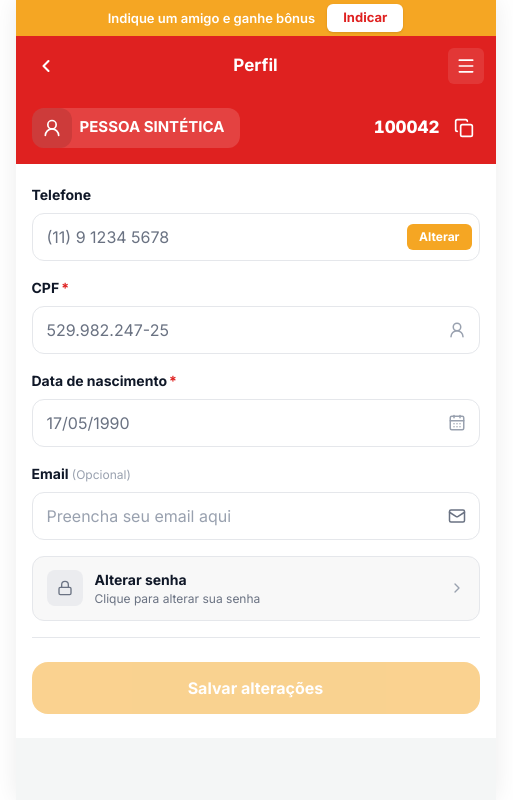
Perfil: telefone › "Alterar" libera a edição com máscara; "Cancelar" volta ao valor salvo
Click the button "Alterar".
click(439, 236)  # box [407, 224, 472, 250]
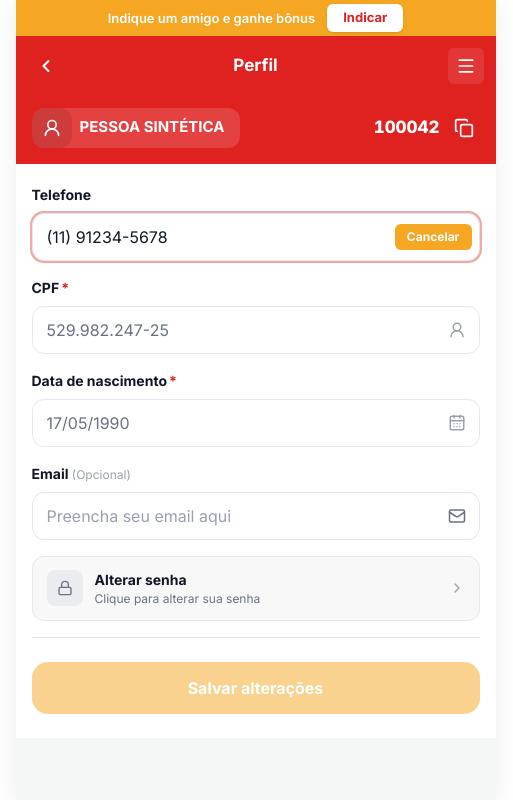
Check: the field labelled "Telefone" holds "(11) 91234-5678"
Replace the text in the field labelled "Telefone" with "21987654321" at (256, 236), box [32, 212, 480, 260]
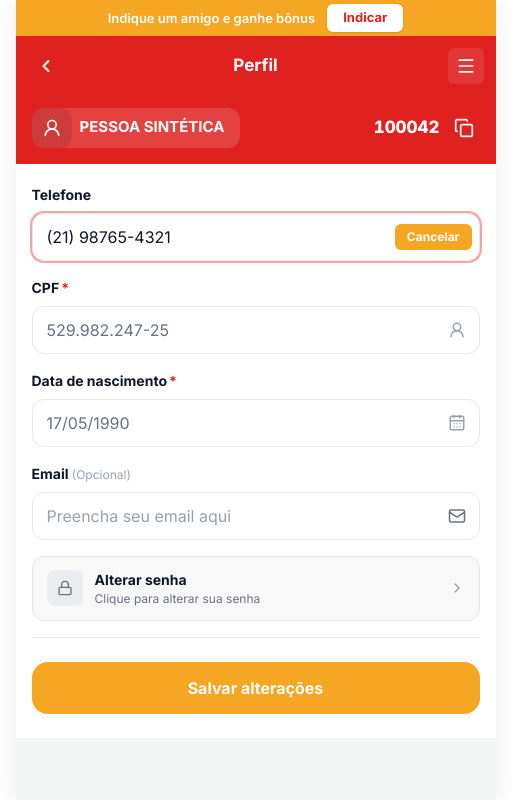
Check: the button "Salvar alterações" is enabled, box [32, 662, 480, 714]
Check: the field labelled "Telefone" holds "(21) 98765-4321", box [32, 212, 480, 260]
Click the button "Cancelar".
click(433, 236)  # box [395, 224, 472, 250]
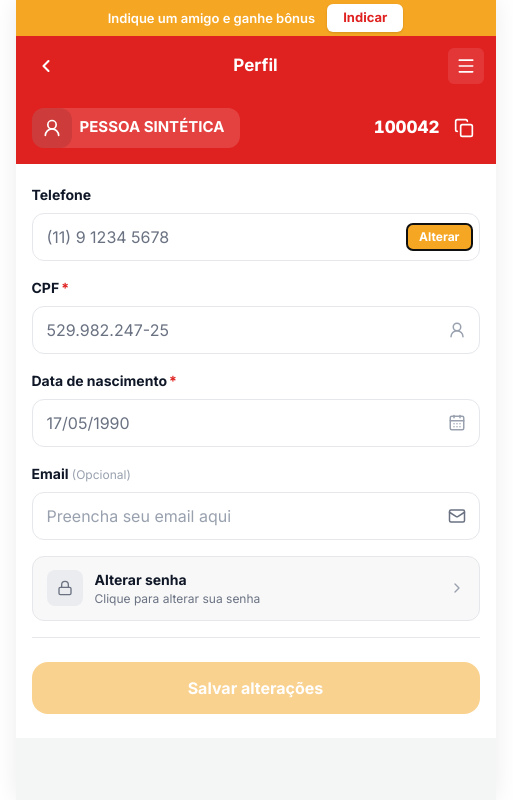
Check: the field labelled "Telefone" holds "(11) 9 1234 5678", box [32, 212, 480, 260]
Check: the button "Salvar alterações" is disabled, box [32, 662, 480, 714]
